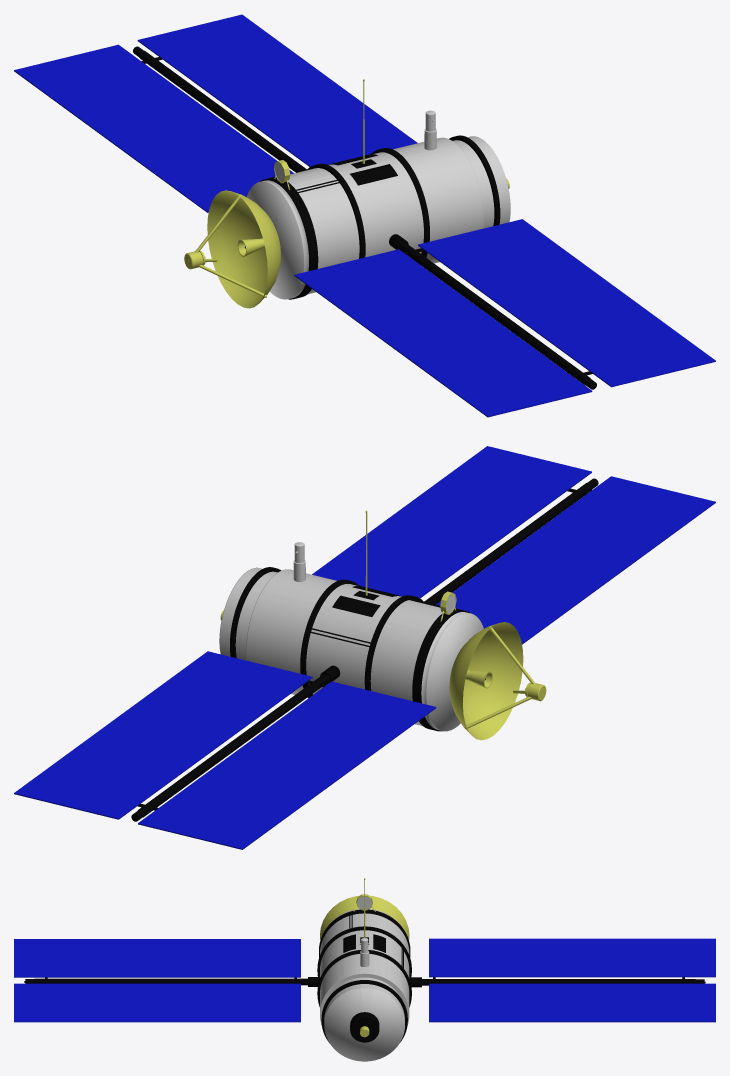
The model's file is satellite.glb.
The picture shows the model from 3 angles, top to bottom: view 1: azimuth 30°, elevation 25°; view 2: azimuth 150°, elevation 25°; view 3: azimuth 270°, elevation 25°; orthographic projection. The views are drawn at different scales.
Parts seen in each view (by area): view 1: panel1, panel2, body; view 2: panel2, panel1, body; view 3: panel2, panel1, body, Cylinder.
Part boxes in pixels (bbox=[...]): panel1: bbox=[294, 219, 715, 417]; panel2: bbox=[14, 14, 417, 212]; body: bbox=[184, 79, 510, 308]; panel2: bbox=[14, 651, 436, 849]; panel1: bbox=[312, 446, 715, 644]; body: bbox=[219, 510, 546, 740]; panel2: bbox=[409, 938, 715, 1022]; panel1: bbox=[14, 939, 320, 1022]; body: bbox=[317, 878, 411, 1061]; Cylinder: bbox=[350, 1012, 379, 1042].
Size of the model in its own units: 6.09 by 3.82 by 15.67.
6 materials, 6 textured.
